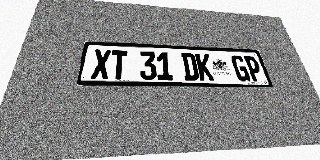1: (156, 52, 173, 80)
3: (140, 51, 157, 80)
D: (181, 53, 199, 80)
G: (230, 55, 251, 81)
K: (195, 53, 214, 81)
P: (243, 56, 264, 81)
T: (109, 50, 128, 79)
X: (91, 49, 111, 79)
